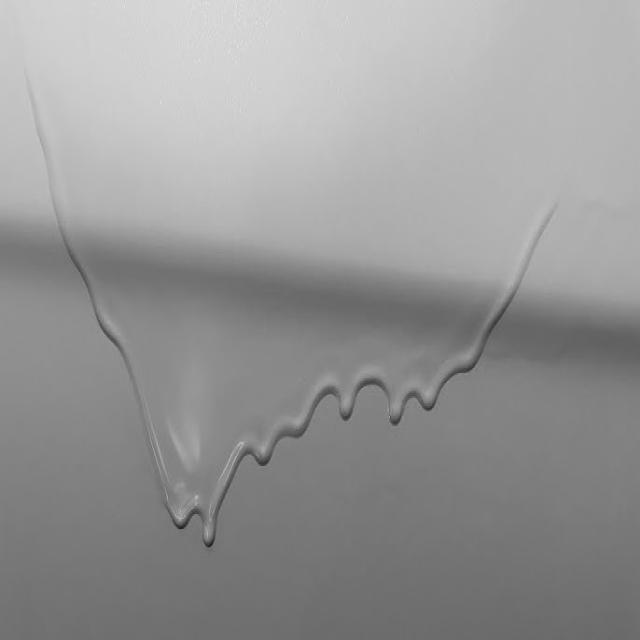paint drips: (24, 58, 218, 573), (192, 297, 464, 565), (430, 176, 573, 437)
